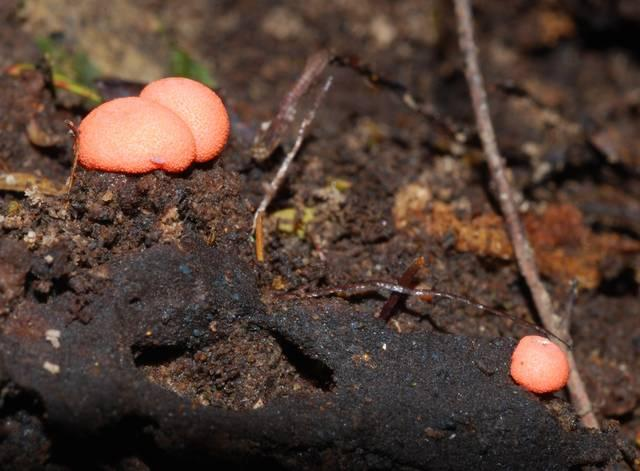Non-edible Mushroom: (71, 94, 196, 175), (138, 75, 231, 163), (508, 333, 570, 394)
